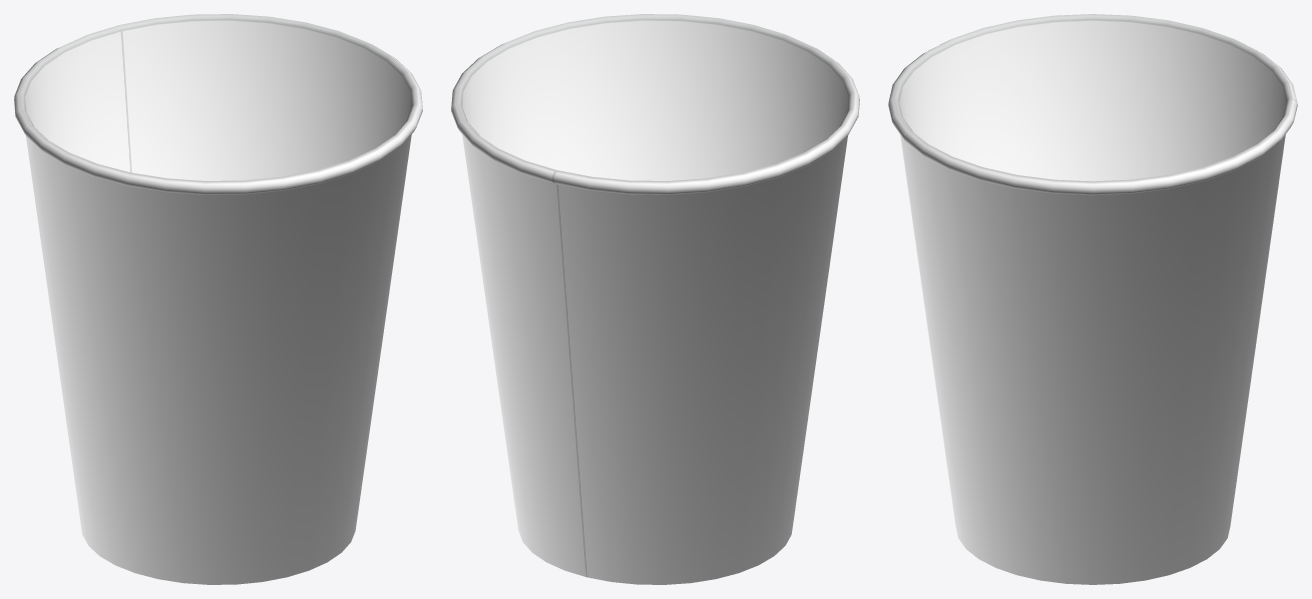
Rendered from oCup.fbx.
3 views of the same model, side by side, from view 1: azimuth 30°, elevation 25°; view 2: azimuth 150°, elevation 25°; view 3: azimuth 270°, elevation 25° (orthographic).
Parts seen in each view (by area): view 1: paper cup; view 2: paper cup; view 3: paper cup.
Boxes of the visible parts, x1=… form: paper cup: x1=14, y1=14, x2=422, y2=584; paper cup: x1=451, y1=14, x2=859, y2=584; paper cup: x1=888, y1=14, x2=1297, y2=584.
Bounding box in the file's own units: 3.13 × 3.62 × 3.13.
1 material, 1 textured.
